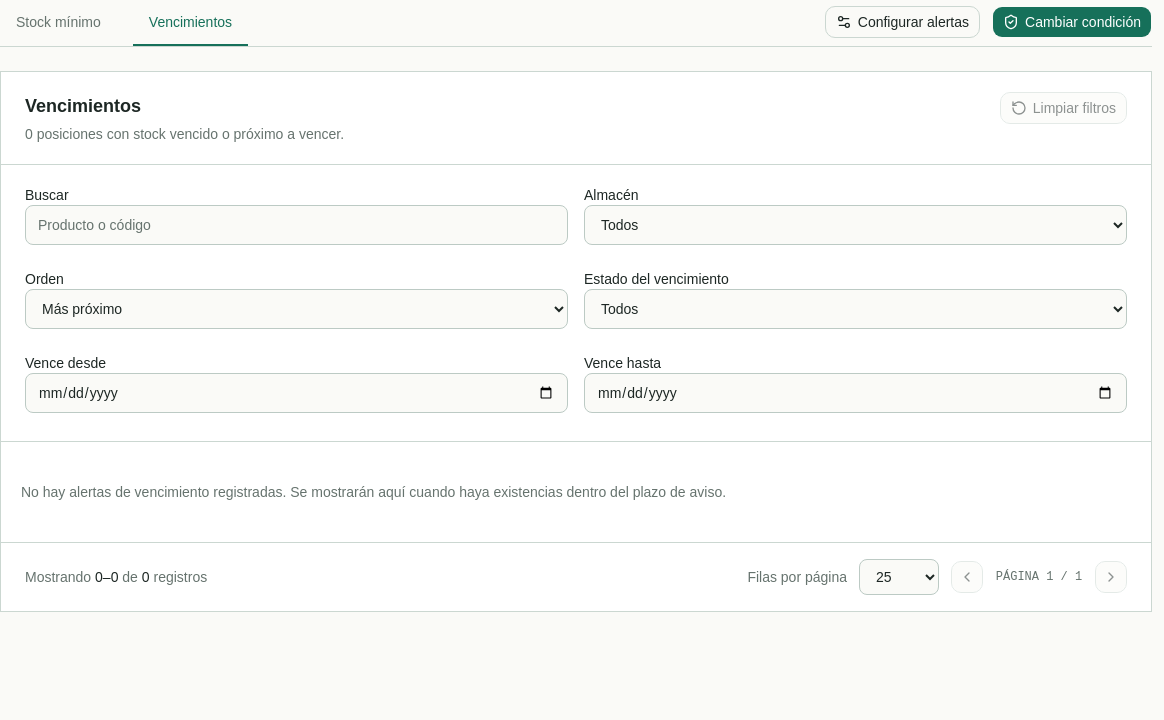
Scenario: PanelControlStock › explica un rango de fechas invertido y no consulta un listado inválido
In the date field labelled "Vence desde": (296, 393) [25,373,568,413], type "2026-10-31"
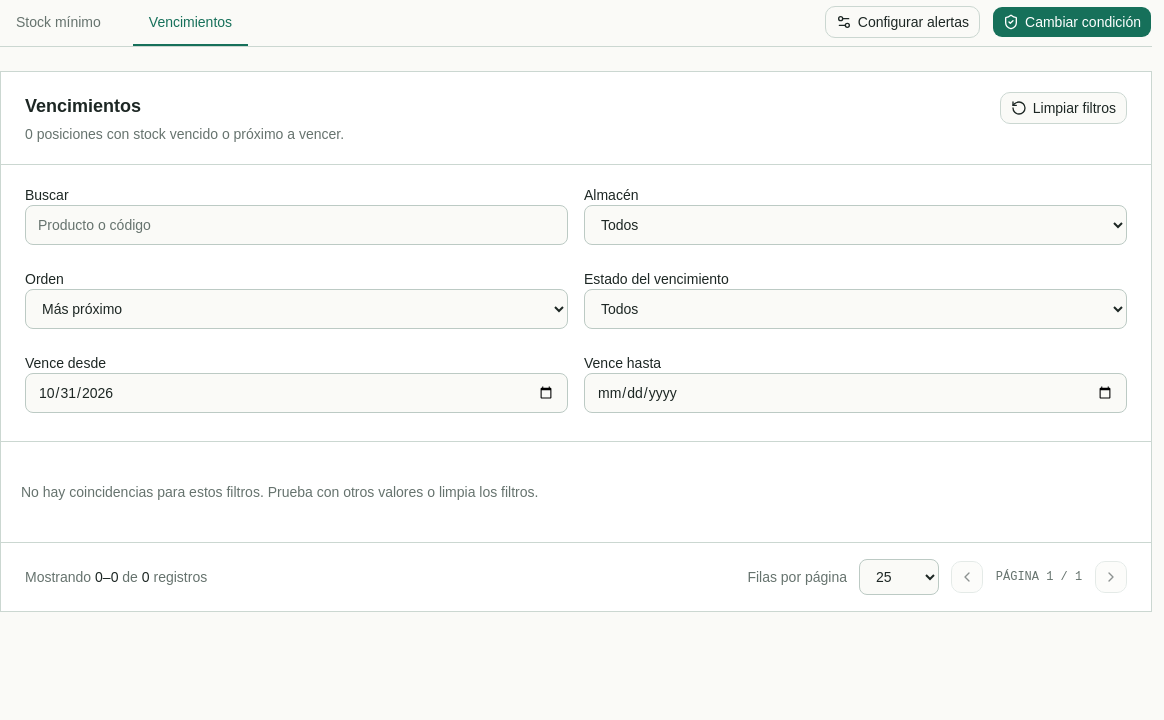
In the date field labelled "Vence hasta": (856, 393) [584,373,1127,413], type "2026-10-01"
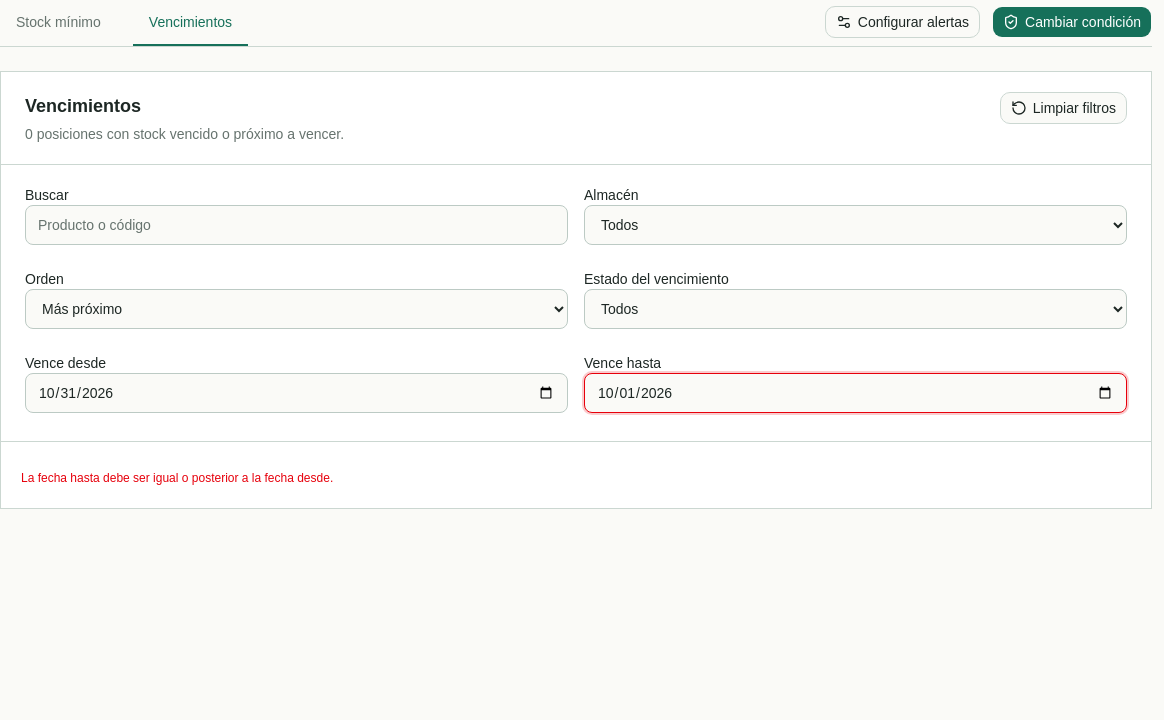
Now the message shows "La fecha hasta debe ser igual o posterior", box [21,471,333,485]
